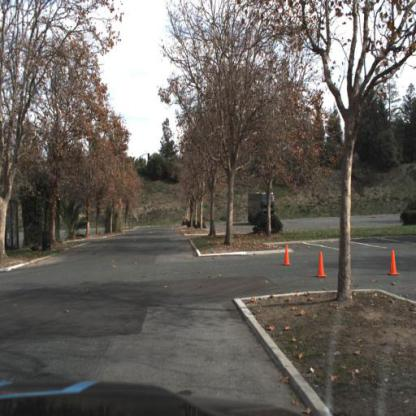truck: (247, 191, 274, 224)
